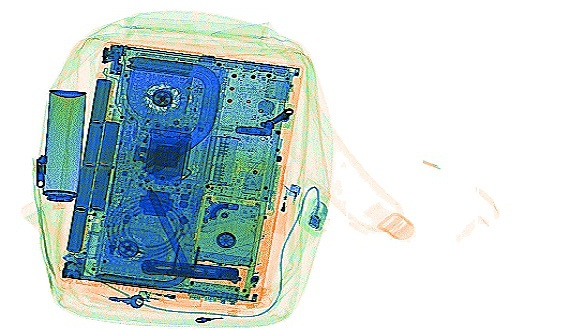knife: (137, 255, 240, 281)
lighter: (270, 182, 301, 236), (134, 288, 202, 308)
pressure: (38, 88, 89, 210)
